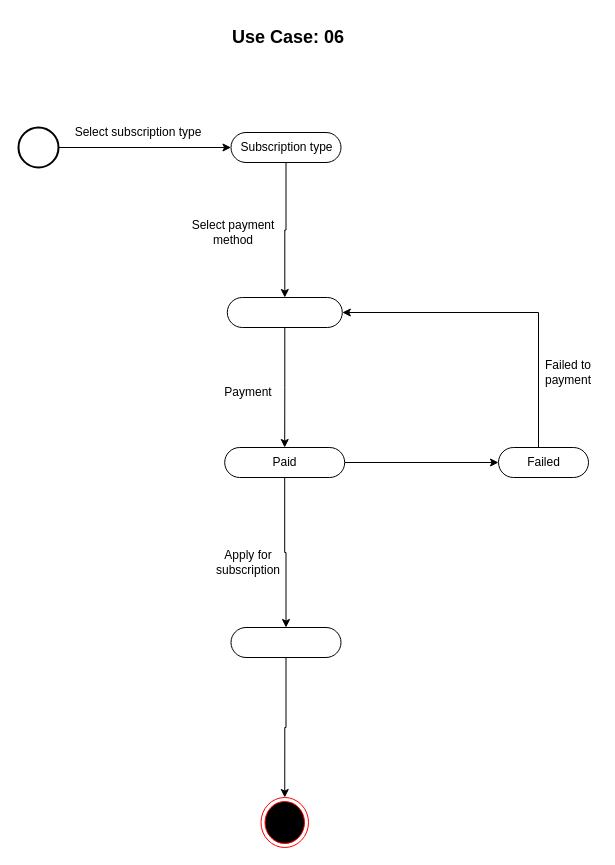
The diagram is 615 pixels wide and 865 high, and some of its shapes have lost their labels. Each missing label, with the box of its shape:
Payment Method: (226, 296, 342, 328)
Subscribed: (230, 626, 341, 658)
